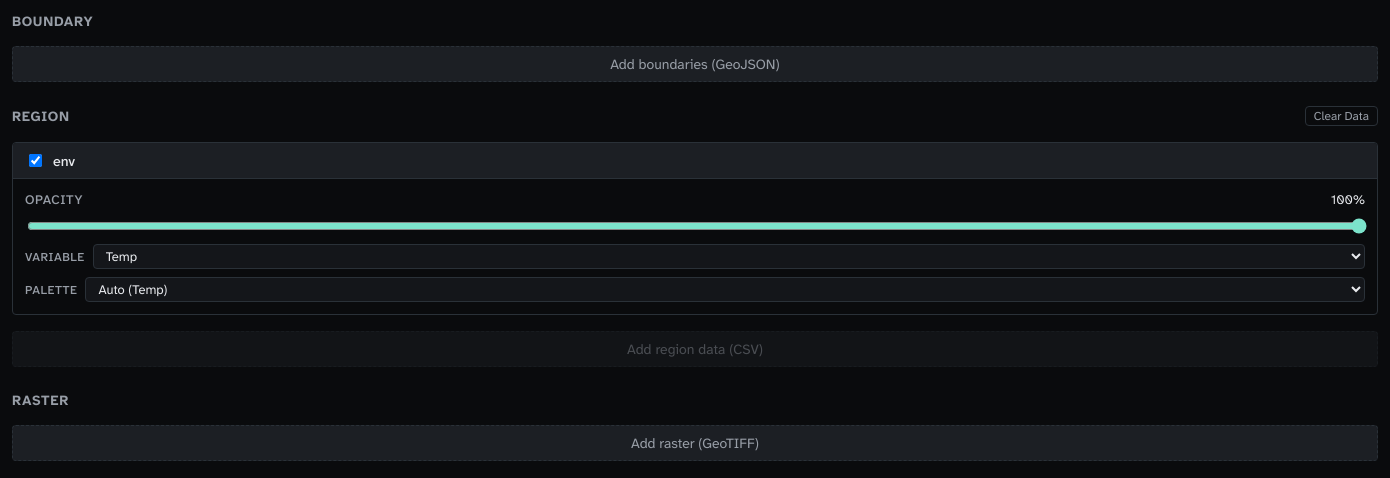
LayersPanel › Clear Data removes region choropleths and env columns
Click the button with test id "clear-region-btn" at (1341, 116), box x1=1305 y1=106 x2=1378 y2=126
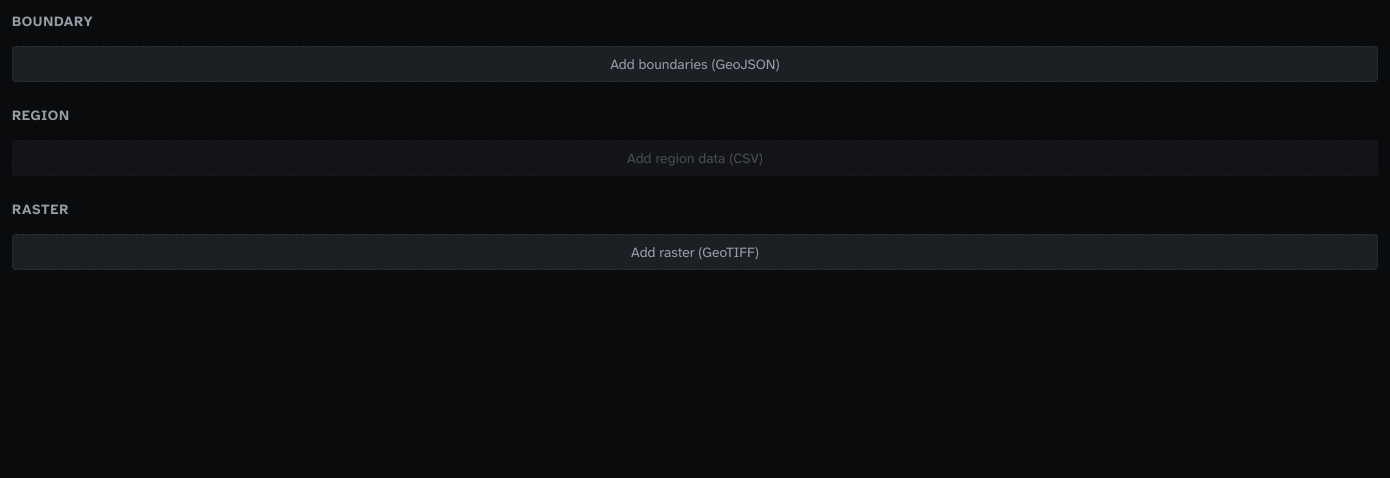
Now the element with test id "env-subcontrols" is gone
